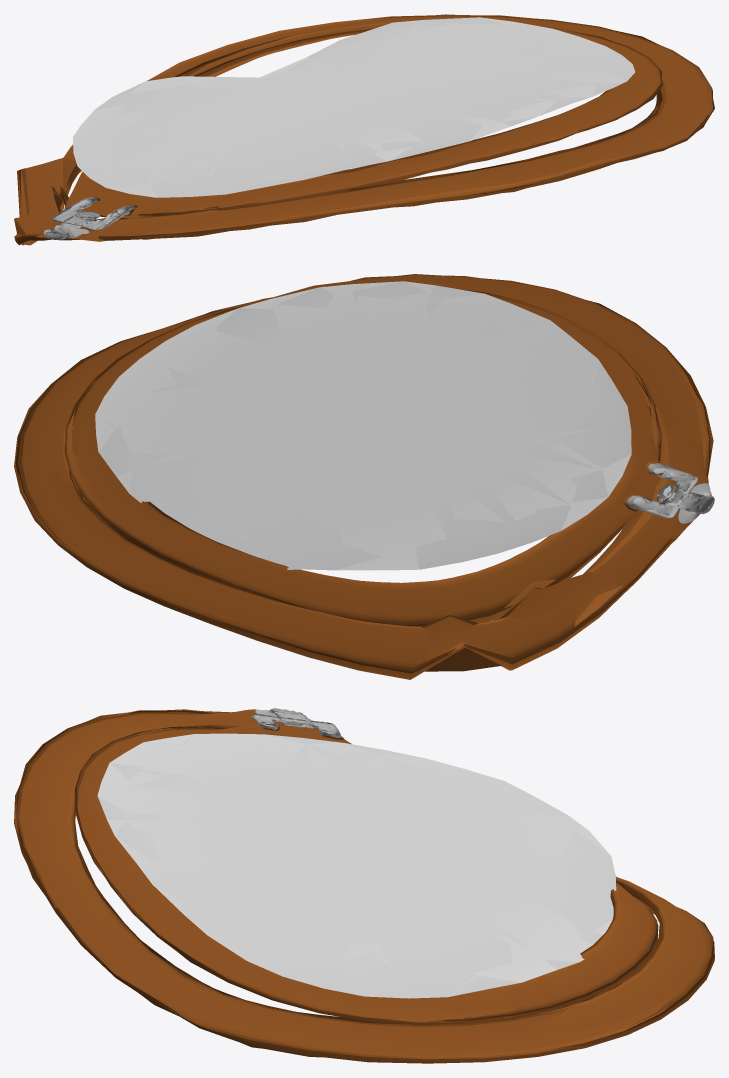
Rendered from spaceship_large.fbx.
3 renders of one model, top to bottom at view 1: azimuth 30°, elevation 25°; view 2: azimuth 150°, elevation 25°; view 3: azimuth 270°, elevation 25°, orthographic. The views are drawn at different scales.
Visible parts, largest first — view 1: pCylinder10_2, polySurface10_2, polySurface6_polySurface12_2; view 2: pCylinder10_2, polySurface10_2, polySurface6_polySurface12_2; view 3: pCylinder10_2, polySurface10_2, polySurface6_polySurface12_2.
Boxes of the visible parts, bbox=[...] form: pCylinder10_2: bbox=[72, 17, 635, 197]; polySurface10_2: bbox=[14, 14, 714, 245]; polySurface6_polySurface12_2: bbox=[51, 21, 662, 230]; pCylinder10_2: bbox=[95, 281, 631, 570]; polySurface10_2: bbox=[14, 274, 714, 679]; polySurface6_polySurface12_2: bbox=[64, 289, 697, 626]; pCylinder10_2: bbox=[97, 733, 616, 998]; polySurface10_2: bbox=[14, 708, 714, 1063]; polySurface6_polySurface12_2: bbox=[74, 714, 658, 1025].
Bounding box in the file's own units: 4 × 1.1 × 3.44.
